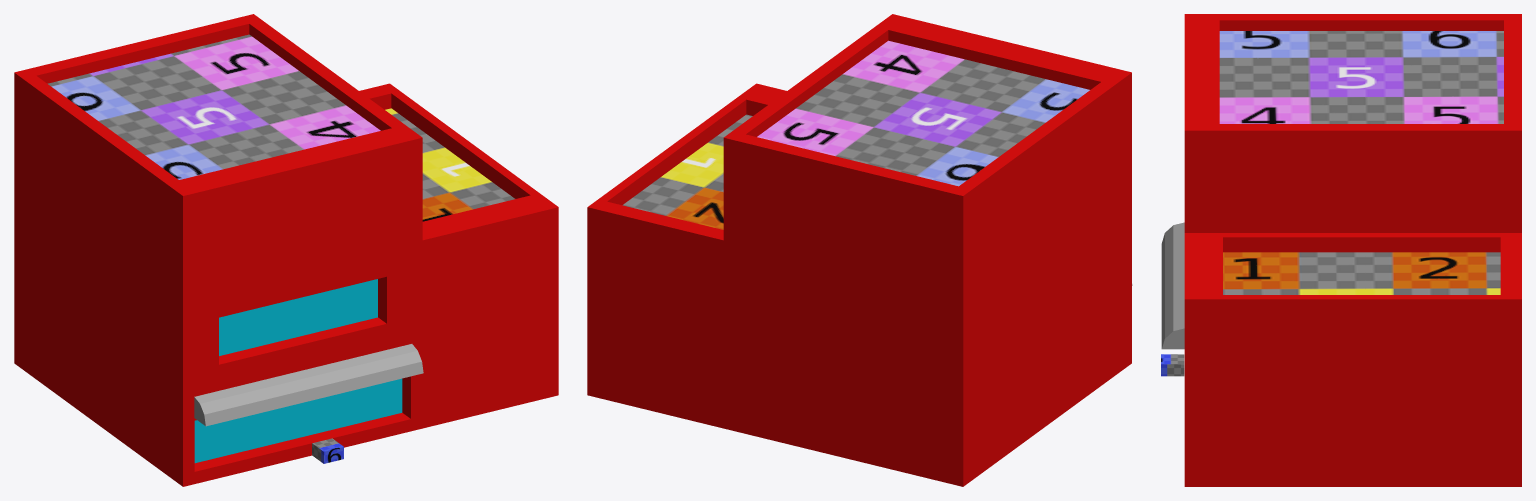
Rendered from RxStore.fbx.
The picture shows the model from 3 angles, left to right: view 1: azimuth 30°, elevation 25°; view 2: azimuth 150°, elevation 25°; view 3: azimuth 270°, elevation 25°; orthographic projection.
Parts seen in each view (by area): view 1: pCube22; view 2: pCube22; view 3: pCube22.
Boxes of the visible parts, left/top/right/bottom form: pCube22: left=14, top=14, right=558, bottom=486; pCube22: left=587, top=14, right=1132, bottom=486; pCube22: left=1161, top=14, right=1521, bottom=486.
Bounding box in the file's own units: 18.54 × 13.72 × 15.46.
